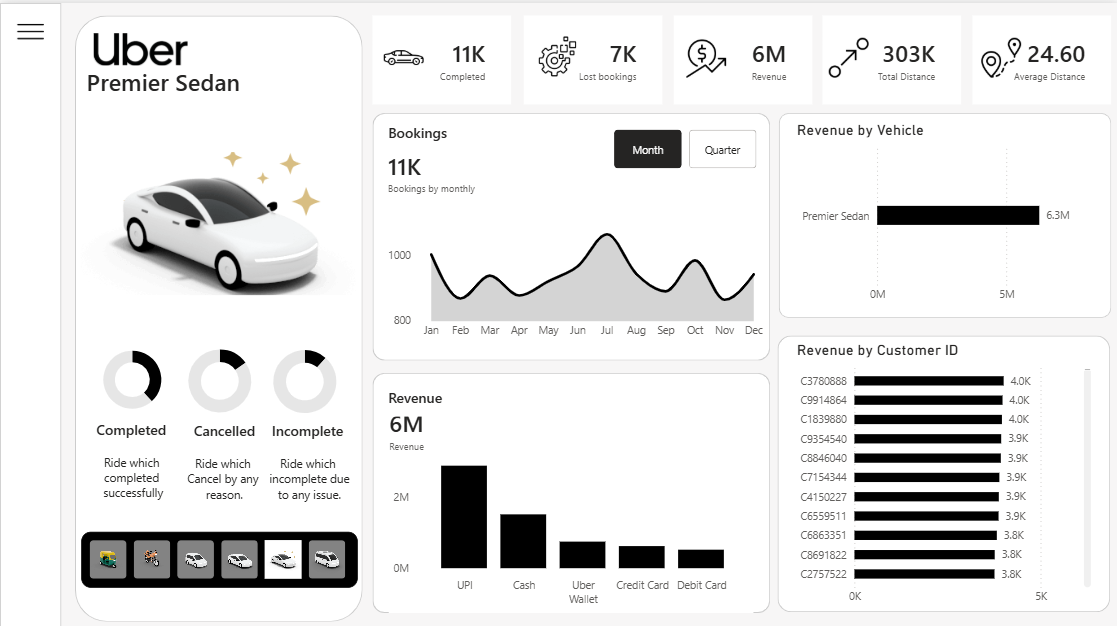

The dashboard page shown, as its layout file describes it:
{"tool":"powerbi","page":{"name":"Vehicle","canvas":[1280,720],"ordinal":2},"visuals":[{"type":"shape","box":[0,0,70,720],"z":0},{"type":"image","box":[15.7,14.3,40,38.6],"z":1000},{"type":"shape","box":[85.7,14.3,328.6,692.9],"z":2000},{"type":"image","box":[107.1,25.7,107.1,54.3],"z":3000},{"type":"cardVisual","fields":{"Data":["Measure_table.Completed_bookings1"]},"box":[425.7,14.3,158.6,101.4],"z":4000},{"type":"cardVisual","fields":{"Data":["Measure_table.Lost_bookings"]},"box":[598.6,14.3,158.6,101.4],"z":5000},{"type":"cardVisual","fields":{"Data":["Measure_table.Revenue"]},"box":[770,14.3,158.6,101.4],"z":6000},{"type":"cardVisual","fields":{"Data":["Measure_table.Total_Distance"]},"box":[940,14.3,158.6,101.4],"z":7000},{"type":"cardVisual","fields":{"Data":["Measure_table.Average_Distance"]},"box":[1111.4,14.3,158.6,101.4],"z":8000},{"type":"advancedSlicerVisual","fields":{"Values":["Img.Vehicle Type"]},"box":[92.9,604.3,315.7,64.3],"z":9000},{"type":"cardVisual","fields":{"Data":["Min(Img.Vehicle Type)"]},"box":[70,53.5,255.2,72.7],"z":10000},{"type":"cardVisual","fields":{"Data":["Min(Img.Img)"]},"box":[85.7,0,327.1,340],"z":11000},{"type":"tableEx","fields":{"Values":["Img.Img","Uber.Vehicle","Measure_table.Customer_count","Measure_table.Revenue","Measure_table.Completed_bookings","Measure_table.Cont%=","SparklineData(Measure_table.Completed_bookings_[Calendar.Month])"]},"box":[425.7,125.7,844.3,568.6],"z":12000},{"type":"donutChart","fields":{"Y":["Measure_table.Booking_count","Measure_table.Measure"]},"box":[101.4,384.3,100,92.9],"z":13000},{"type":"donutChart","fields":{"Y":["Measure_table.Booking_count","Measure_table.Measure"]},"box":[201.4,380,100,104.3],"z":14000},{"type":"donutChart","fields":{"Y":["Measure_table.Booking_count","Measure_table.Measure"]},"box":[298.6,382.9,100,100],"z":15000},{"type":"textbox","box":[97.1,471.4,110,110],"z":16000},{"type":"textbox","box":[201.4,472.9,110,110],"z":17000},{"type":"textbox","box":[298.6,472.9,110,110],"z":18000},{"type":"image","box":[438.6,35.7,45.7,54.3],"z":19000},{"type":"image","box":[614.3,34.3,45.7,54.3],"z":20000},{"type":"image","box":[784.3,35.7,45.7,54.3],"z":21000},{"type":"image","box":[947.1,35.7,45.7,54.3],"z":22000},{"type":"image","box":[1121.4,35.7,45.7,54.3],"z":23000},{"type":"lineChart","fields":{"Category":["Uber.Vehicle"],"Y":["Measure_table.Revenue"]},"box":[315.7,340,77.1,40],"z":24000}]}

Visuals, with their boxes in screenshot pixels (x1, y1, x2, y2), scaled from the page's 1280x720 canvas onto the 1117x626 screenshot:
shape: <box>0,0,61,625</box>
image: <box>14,12,49,46</box>
shape: <box>75,12,362,615</box>
image: <box>93,22,187,70</box>
cardVisual - Measure_table.Completed_bookings1: <box>371,12,510,101</box>
cardVisual - Measure_table.Lost_bookings: <box>522,12,661,101</box>
cardVisual - Measure_table.Revenue: <box>672,12,810,101</box>
cardVisual - Measure_table.Total_Distance: <box>820,12,959,101</box>
cardVisual - Measure_table.Average_Distance: <box>970,12,1108,101</box>
advancedSlicerVisual - Img.Vehicle Type: <box>81,525,357,581</box>
cardVisual - Min(Img.Vehicle Type): <box>61,47,284,110</box>
cardVisual - Min(Img.Img): <box>75,0,360,296</box>
tableEx - Img.Img x Uber.Vehicle: <box>371,109,1108,604</box>
donutChart - Measure_table.Booking_count x Measure_table.Measure: <box>88,334,176,415</box>
donutChart - Measure_table.Booking_count x Measure_table.Measure: <box>176,330,263,421</box>
donutChart - Measure_table.Booking_count x Measure_table.Measure: <box>261,333,348,420</box>
textbox: <box>85,410,181,505</box>
textbox: <box>176,411,272,507</box>
textbox: <box>261,411,357,507</box>
image: <box>383,31,423,78</box>
image: <box>536,30,576,77</box>
image: <box>684,31,724,78</box>
image: <box>826,31,866,78</box>
image: <box>979,31,1018,78</box>
lineChart - Uber.Vehicle x Measure_table.Revenue: <box>275,296,343,330</box>
